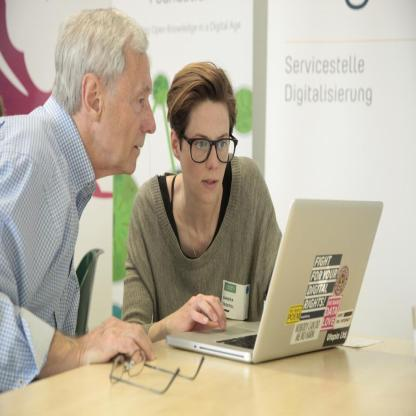board: (166, 196, 382, 364)
